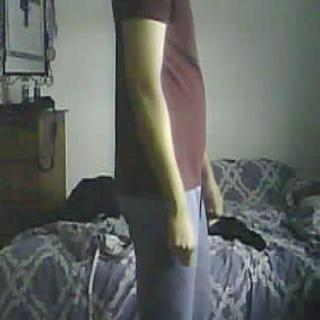Blue Sweatpants: (113, 179, 216, 320)
Maroon T-Shirt: (113, 0, 205, 186)
